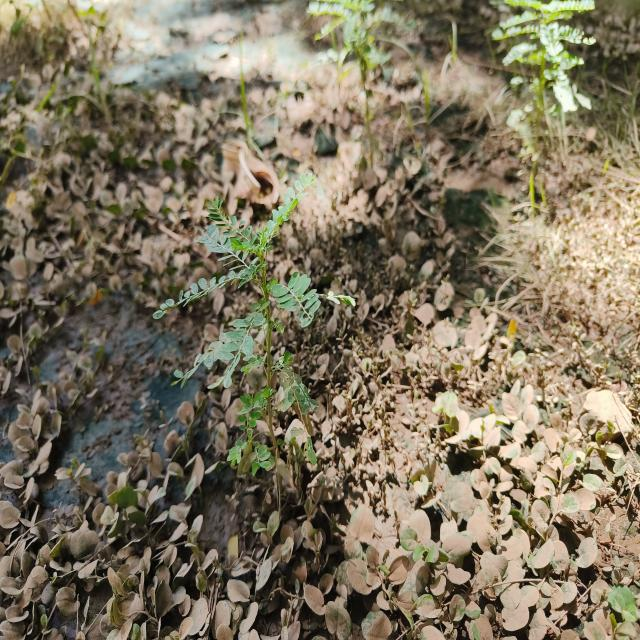weed: (163, 185, 324, 474)
